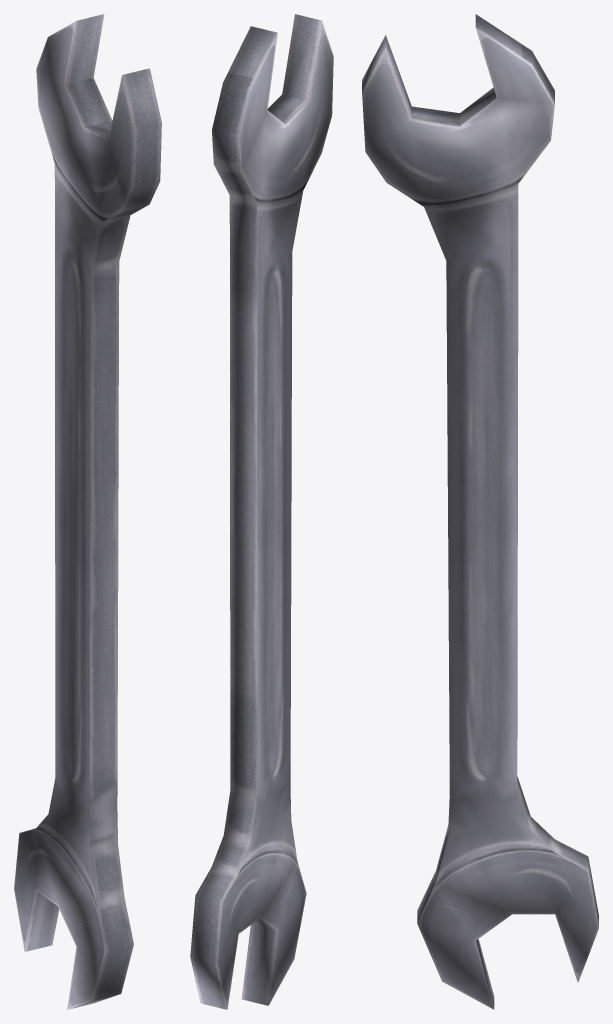
Rendered from spanner.FBX.
3 renders of one model, left to right at view 1: azimuth 30°, elevation 25°; view 2: azimuth 150°, elevation 25°; view 3: azimuth 270°, elevation 25°, orthographic. The views are drawn at different scales.
Parts seen in each view (by area): view 1: double_open_ended_spanner_190412; view 2: double_open_ended_spanner_190412; view 3: double_open_ended_spanner_190412.
Boxes of the visible parts, left/top/right/bottom form: double_open_ended_spanner_190412: left=14, top=14, right=161, bottom=1009; double_open_ended_spanner_190412: left=190, top=14, right=333, bottom=1009; double_open_ended_spanner_190412: left=362, top=14, right=598, bottom=1009.
Size of the model in its own units: 0.9347 by 31.92 by 6.97.
1 material, 1 textured.
